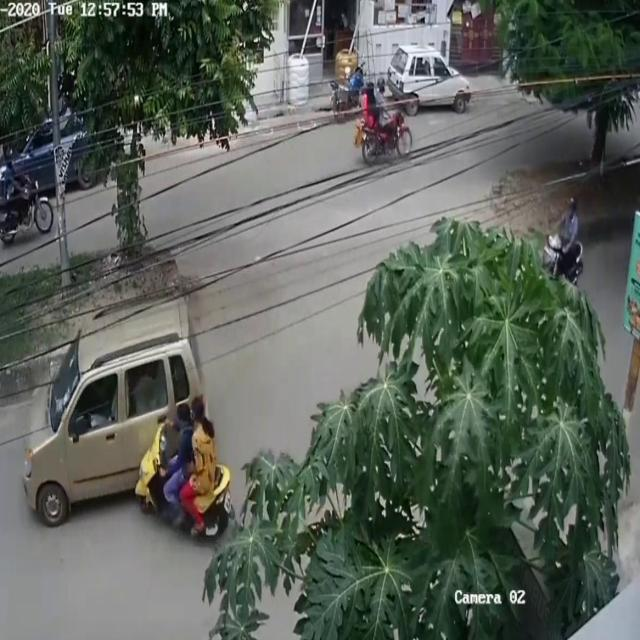accident: (14, 295, 242, 561)
